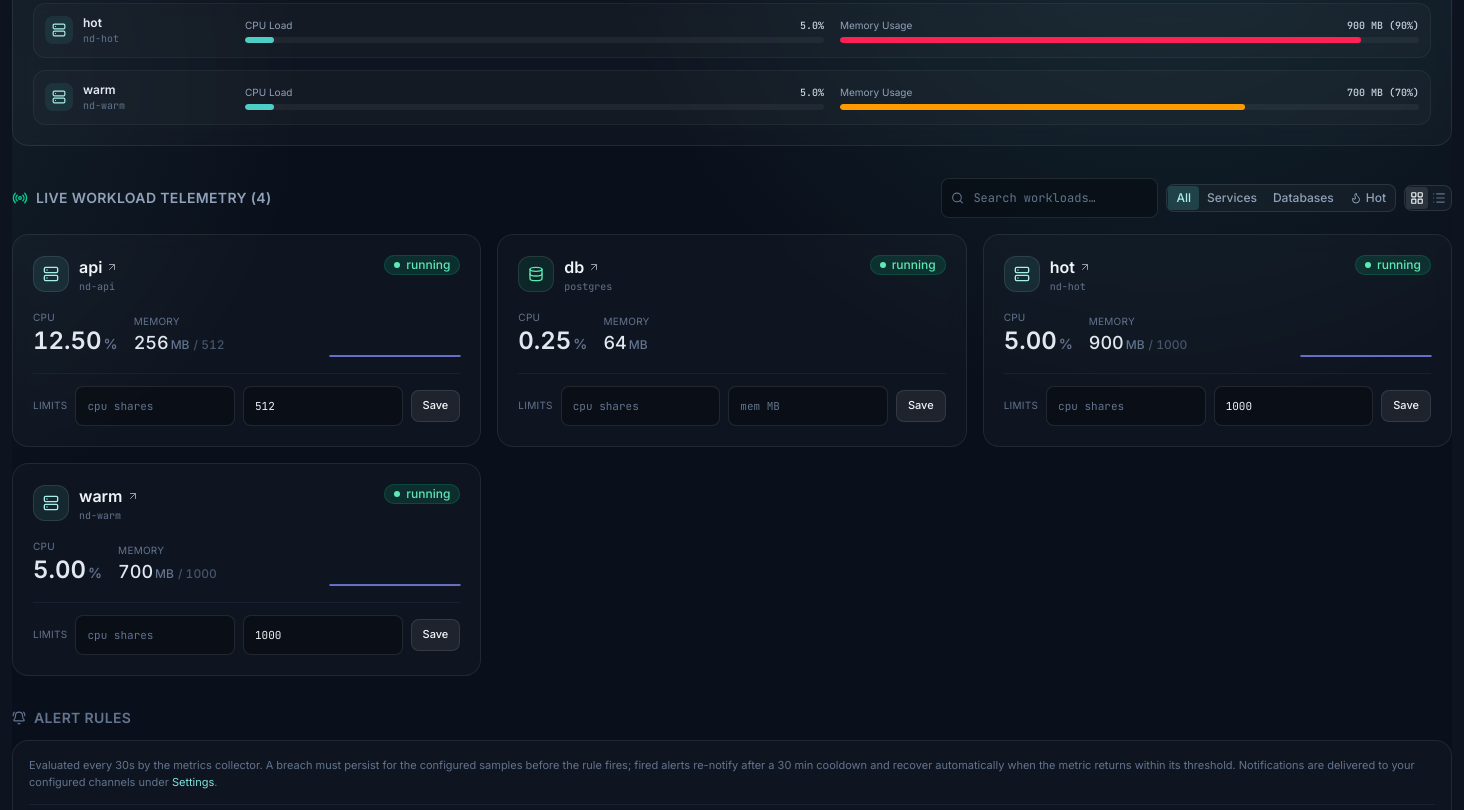
Test case: Monitoring › shows the pending state while limits are being saved
(page scrolled)
In the field with placeholder "cpu shares" below "12.50": (155, 406) [75, 386, 235, 426], type "256"
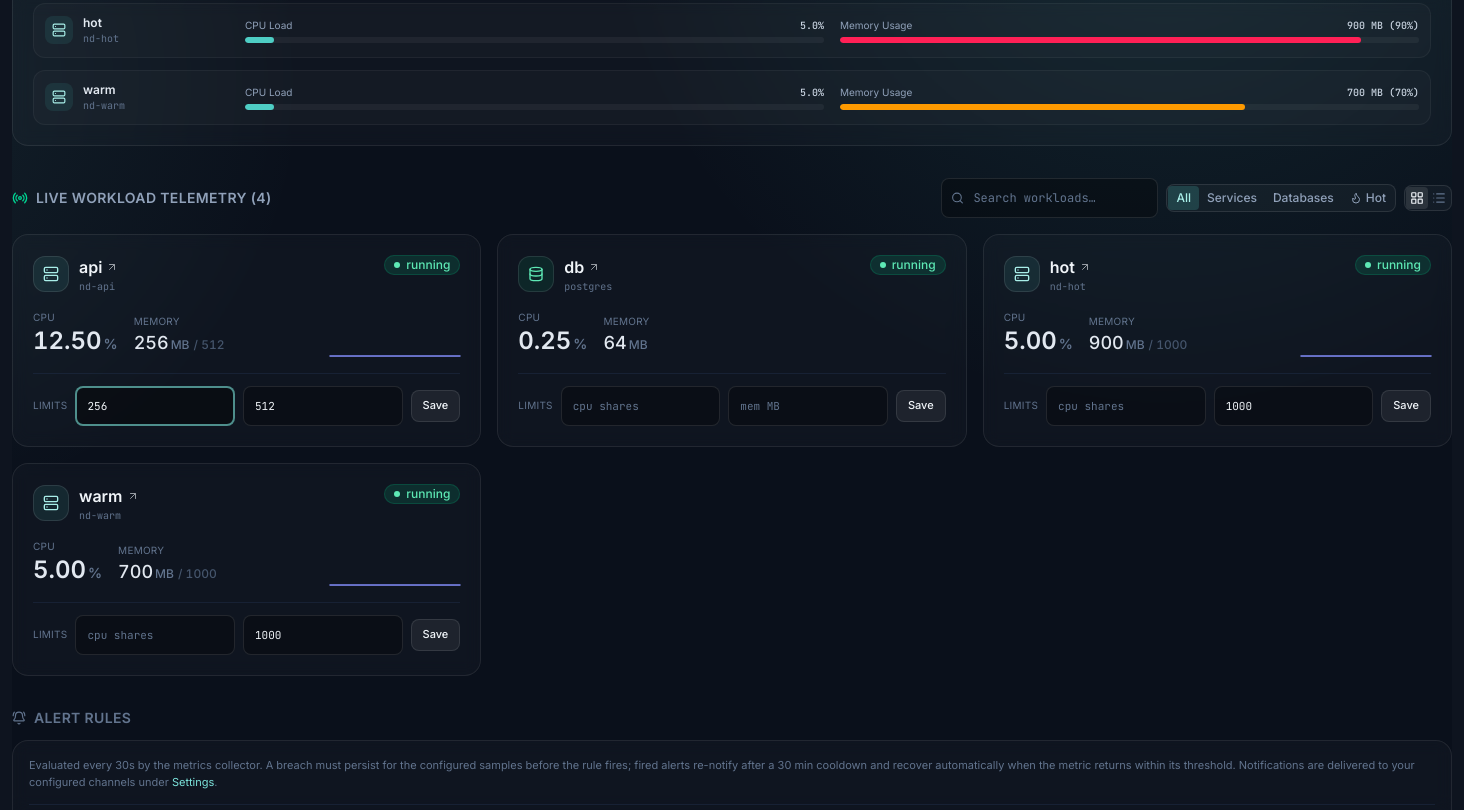
Submit the form with placeholder "cpu shares" below "12.50", box [33, 372, 460, 426]
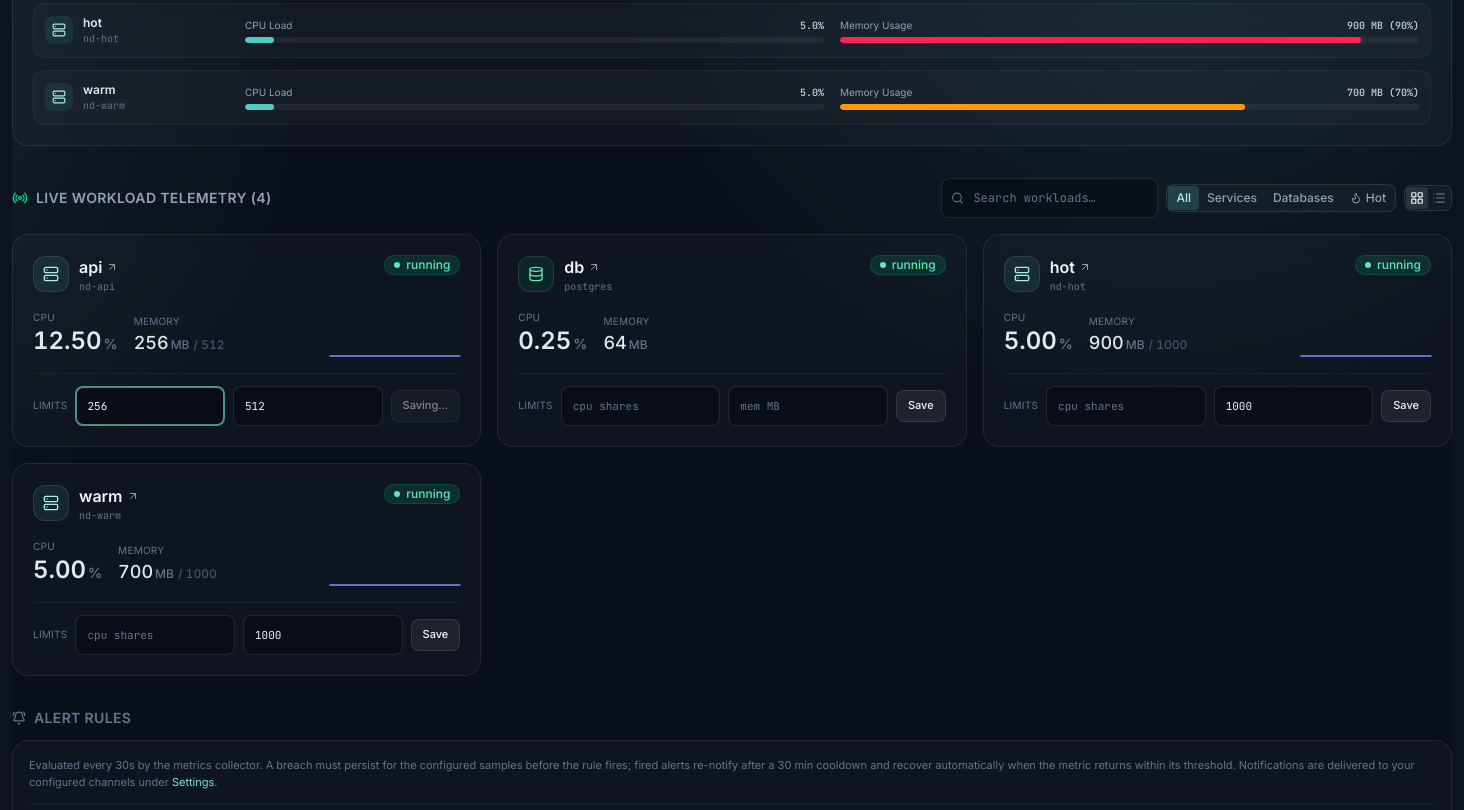
expect the button "Saving…" is shown: met, box [391, 390, 460, 422]
